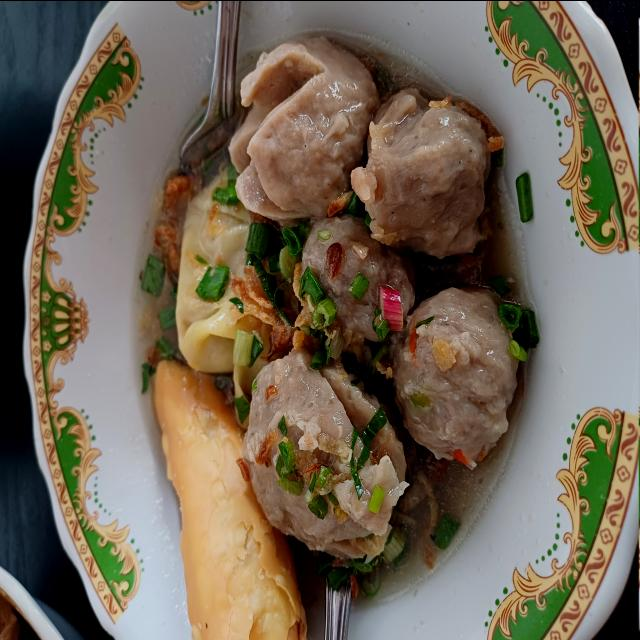bakso: (142, 29, 539, 640)
